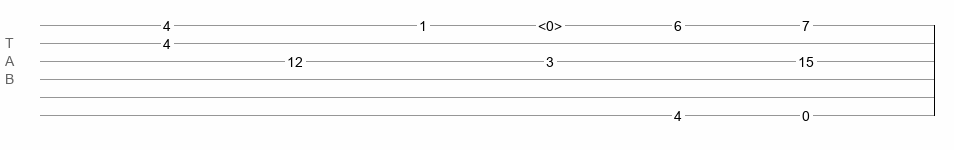0: (802, 108, 810, 118)
1: (419, 18, 427, 28)
12: (287, 54, 303, 64)
15: (798, 54, 814, 64)
3: (546, 54, 554, 64)
4: (163, 36, 171, 46), (163, 18, 171, 28), (674, 108, 682, 118)
6: (674, 18, 682, 28)
7: (802, 18, 810, 28)
harmonic: (538, 18, 562, 28)
